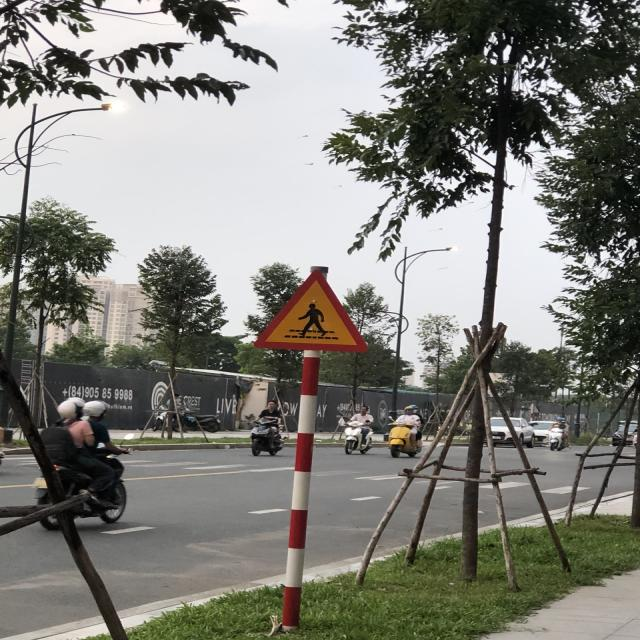Bien bao duong nguoi di bo cat ngang: (238, 260, 388, 361)
